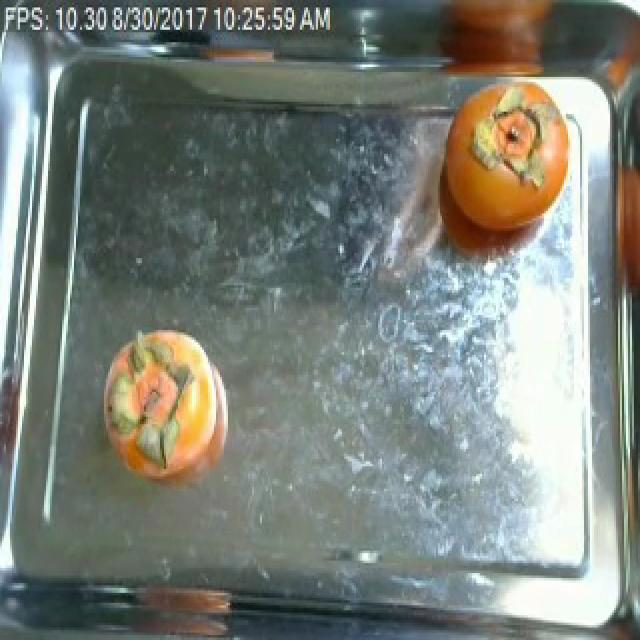Fruit: (94, 317, 230, 488), (428, 0, 570, 77)
